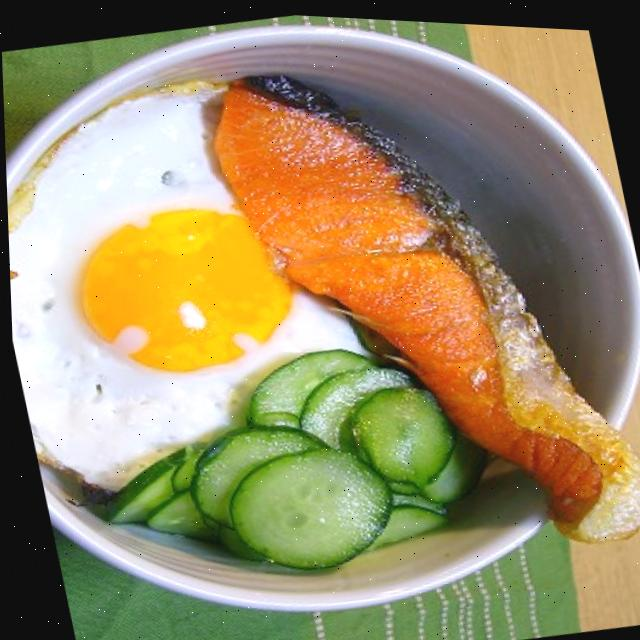熟制海鲜: (209, 20, 640, 604)
鸡蛋料理: (3, 88, 314, 456)
